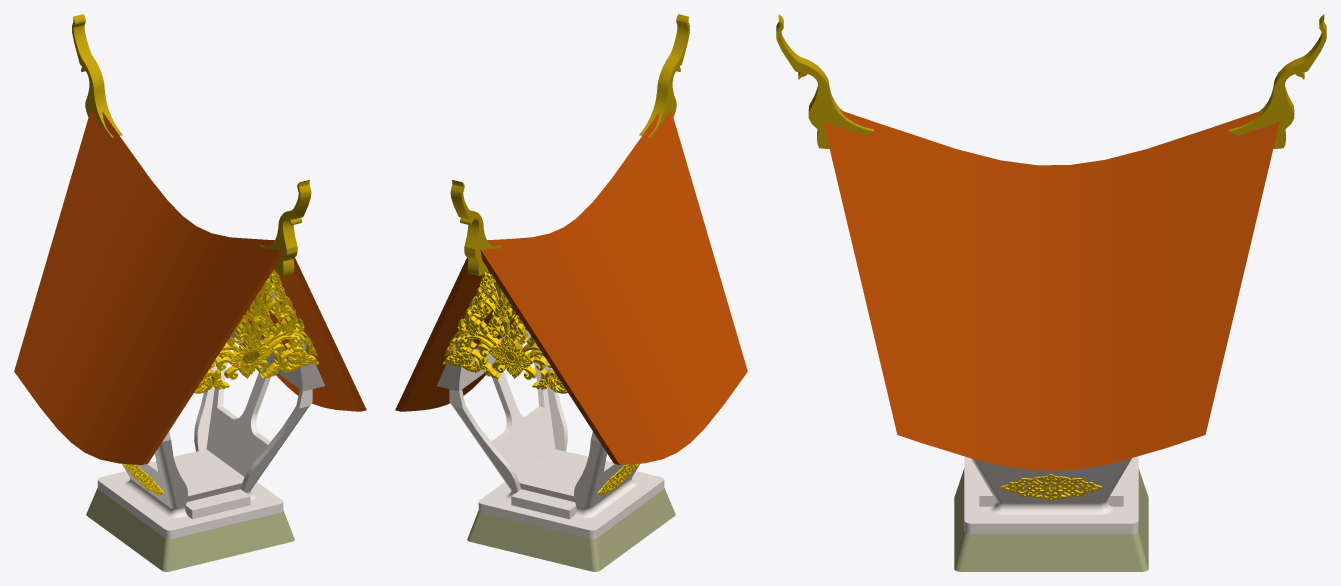
Rendered from cal006-2.glb.
3 views of the same model, side by side, from view 1: azimuth 30°, elevation 25°; view 2: azimuth 150°, elevation 25°; view 3: azimuth 270°, elevation 25° (orthographic). The views are drawn at different scales.
Visible parts, largest first — view 1: Part11[74], Part20[92], Part52[797], Part43[183], 2022_05_26_07422823[228], 2022_05_26_07422823[227], Part49[219], daa9fe217a8d1180488f9063988795f13999[592], Part37[158], cbf30ae725705d73f984060f334390d6[796]; view 2: Part11[74], Part20[92], Part52[797], Part43[183], 2022_05_26_07422823[227], 2022_05_26_07422823[228], Part49[225], daa9fe217a8d1180488f9063988795f13999[780], Part37[173], cbf30ae725705d73f984060f334390d6[796]; view 3: Part11[74], Part20[92], Part52[797], 2022_05_26_07422823[227], 2022_05_26_07422823[228], cbf30ae725705d73f984060f334390d6[794].
Boxes of the visible parts, x1,y1,x2,y2 form: Part11[74]: (14,110,366,464); Part20[92]: (97,323,312,539); Part52[797]: (86,488,294,571); Part43[183]: (153,449,244,501); 2022_05_26_07422823[228]: (72,14,122,137); 2022_05_26_07422823[227]: (260,180,311,276); Part49[219]: (185,489,250,519); daa9fe217a8d1180488f9063988795f13999[592]: (227,332,267,375); Part37[158]: (269,282,325,391); cbf30ae725705d73f984060f334390d6[796]: (122,463,164,495); Part11[74]: (395,110,747,464); Part20[92]: (449,323,664,539); Part52[797]: (467,488,675,571); Part43[183]: (517,449,608,501); 2022_05_26_07422823[227]: (639,14,689,137); 2022_05_26_07422823[228]: (450,180,501,276); Part49[225]: (511,489,576,519); daa9fe217a8d1180488f9063988795f13999[780]: (494,332,534,375); Part37[173]: (436,282,492,391); cbf30ae725705d73f984060f334390d6[796]: (597,463,639,495); Part11[74]: (823,110,1279,470); Part20[92]: (964,456,1138,533); Part52[797]: (954,468,1148,571); 2022_05_26_07422823[227]: (776,14,873,148); 2022_05_26_07422823[228]: (1229,14,1326,148); cbf30ae725705d73f984060f334390d6[794]: (1001,474,1101,500).
Bounding box in the file's own units: 0.00436 × 0.00795 × 0.00768.
